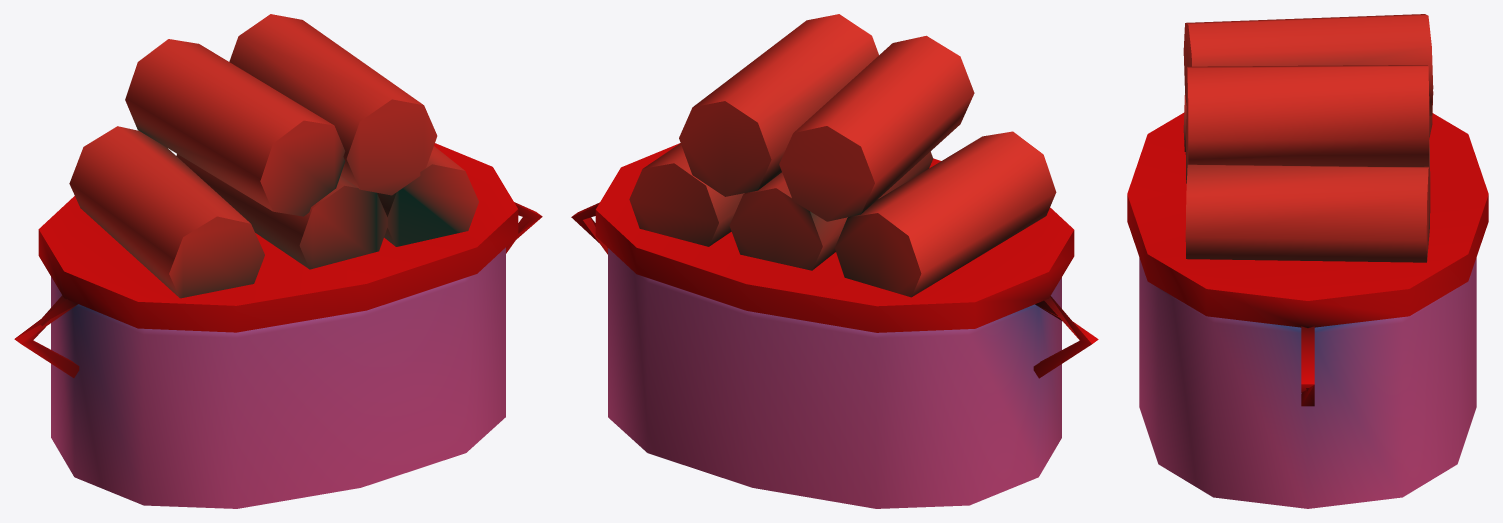
The model's file is CI_Bathroom_RollBasket.glb.
3 views of the same model, side by side, from view 1: azimuth 30°, elevation 25°; view 2: azimuth 150°, elevation 25°; view 3: azimuth 270°, elevation 25° (orthographic). The views are drawn at different scales.
Visible parts, largest first — view 1: CI_Bathroom_RollBasket; view 2: CI_Bathroom_RollBasket; view 3: CI_Bathroom_RollBasket.
Part boxes in pixels (x1,y1,x2,y2): CI_Bathroom_RollBasket: (14,14,542,508); CI_Bathroom_RollBasket: (571,14,1098,508); CI_Bathroom_RollBasket: (1127,14,1488,508).
Bounding box in the file's own units: 0.5113 × 0.335 × 0.3.
